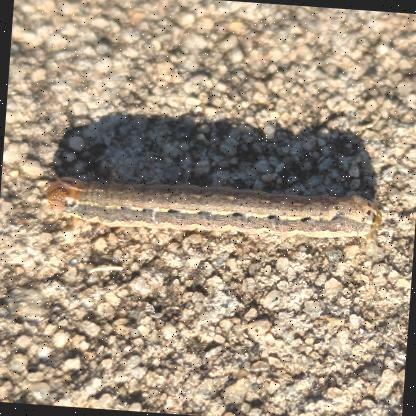Fall Armyworm Larvae: (37, 165, 388, 260)
